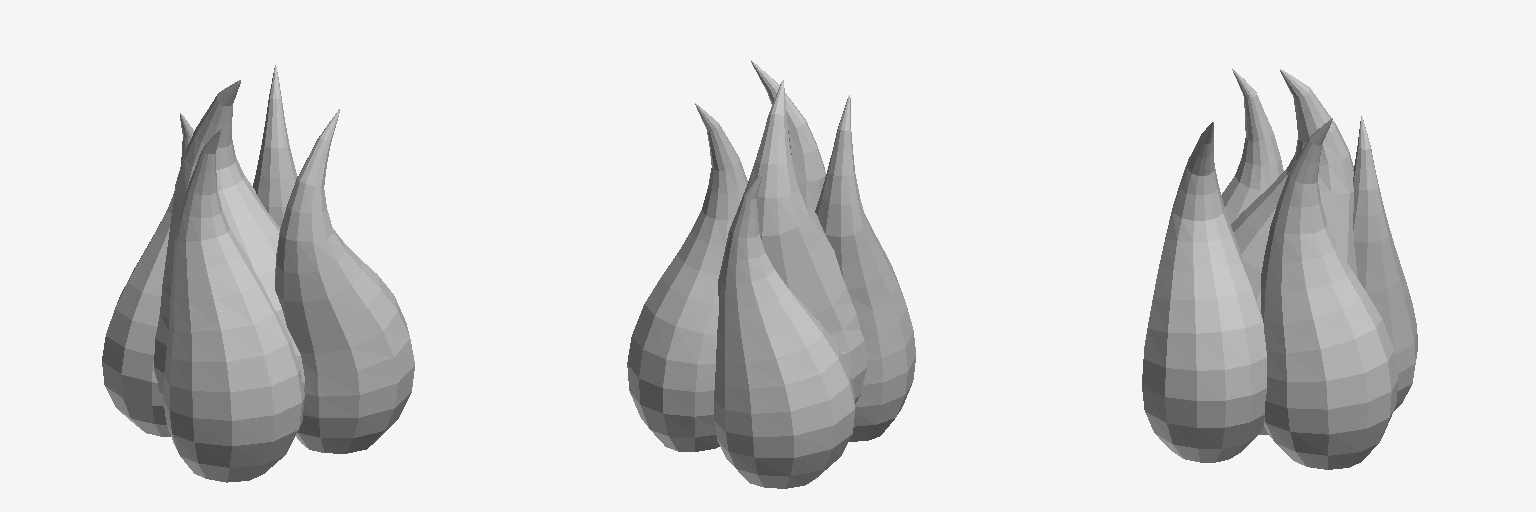
The model's file is fire_000008.obj.
3 renders of one model, left to right at view 1: azimuth 30°, elevation 25°; view 2: azimuth 150°, elevation 25°; view 3: azimuth 270°, elevation 25°, orthographic.
Parts seen in each view (by area): view 1: flame_NurbsPath.015; view 2: flame_NurbsPath.015; view 3: flame_NurbsPath.015.
Part boxes in pixels (left/top/right/bottom): flame_NurbsPath.015: left=102, top=65, right=414, bottom=482; flame_NurbsPath.015: left=627, top=60, right=915, bottom=488; flame_NurbsPath.015: left=1142, top=69, right=1417, bottom=469.
Size of the model in its own units: 0.7552 by 1.15 by 0.7979.